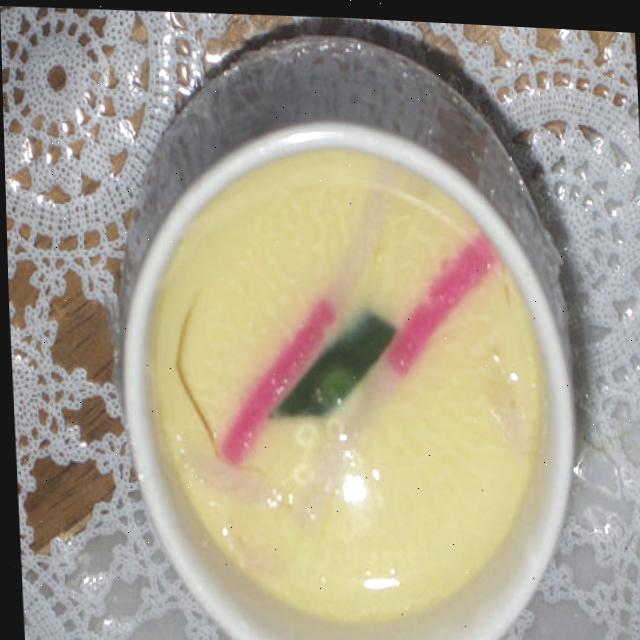鸡蛋料理: (117, 24, 569, 640)
